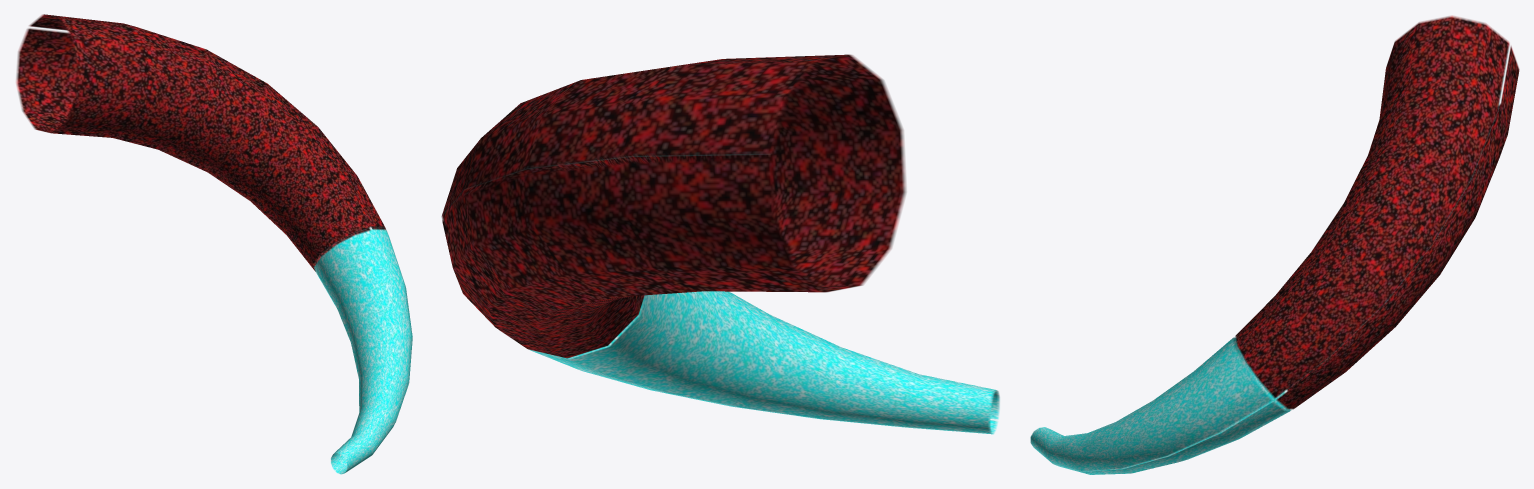
The picture shows the model from 3 angles, left to right: view 1: azimuth 30°, elevation 25°; view 2: azimuth 150°, elevation 25°; view 3: azimuth 270°, elevation 25°; orthographic projection. The views are drawn at different scales.
Parts seen in each view (by area): view 1: SM_VFX_Swirl_02_288_LOD0; view 2: SM_VFX_Swirl_02_288_LOD0; view 3: SM_VFX_Swirl_02_288_LOD0.
Part boxes in pixels (x1,y1,x2,y2): SM_VFX_Swirl_02_288_LOD0: (16,14,412,474); SM_VFX_Swirl_02_288_LOD0: (441,54,999,434); SM_VFX_Swirl_02_288_LOD0: (1030,15,1519,474).
Size of the model in its own units: 4.66 by 5.73 by 6.65.
1 material, 1 textured.
